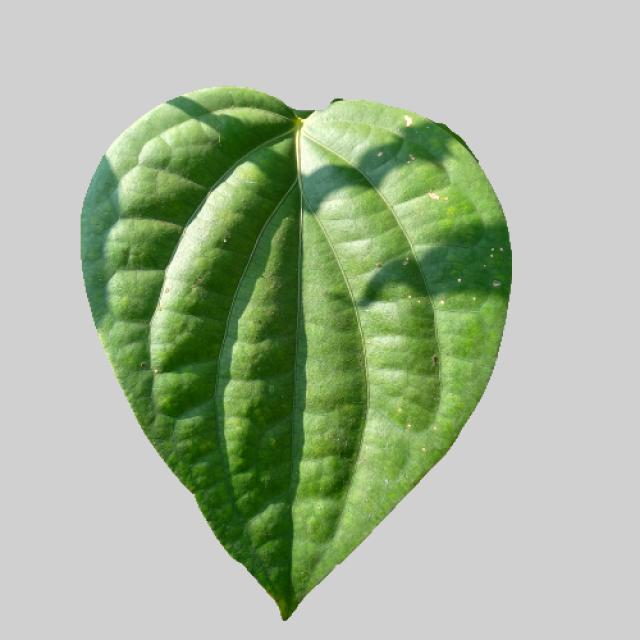healthy: (73, 83, 516, 633)
